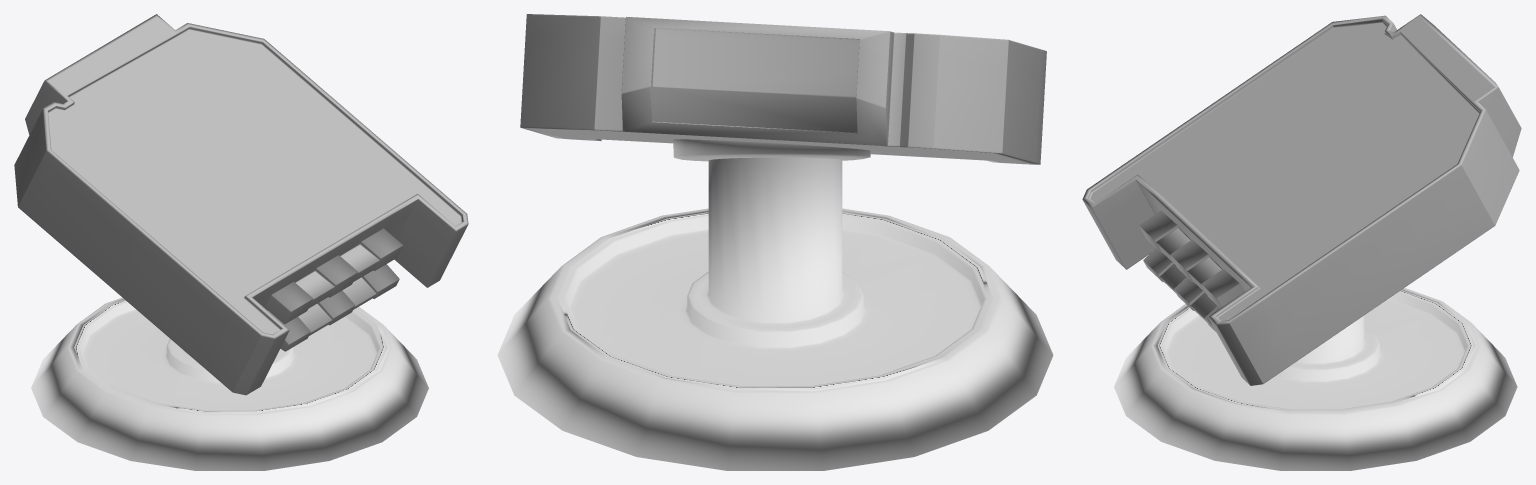
3 views of the same model, side by side, from view 1: azimuth 30°, elevation 25°; view 2: azimuth 150°, elevation 25°; view 3: azimuth 270°, elevation 25° (orthographic). The views are drawn at different scales.
Parts seen in each view (by area): view 1: Cube, Cylinder; view 2: Cylinder, Cube, Cylinder.001; view 3: Cube, Cylinder.
Boxes of the visible parts, box(x1,y1,x2,y2) form: Cube: box(14, 14, 468, 395); Cylinder: box(31, 297, 428, 470); Cylinder: box(497, 157, 1053, 470); Cube: box(520, 14, 1046, 164); Cylinder.001: box(673, 139, 870, 161); Cube: box(1082, 14, 1521, 385); Cylinder: box(1114, 288, 1517, 470).
Size of the model in its own units: 2.31 by 1.76 by 2.27.
1 material, 1 textured.
